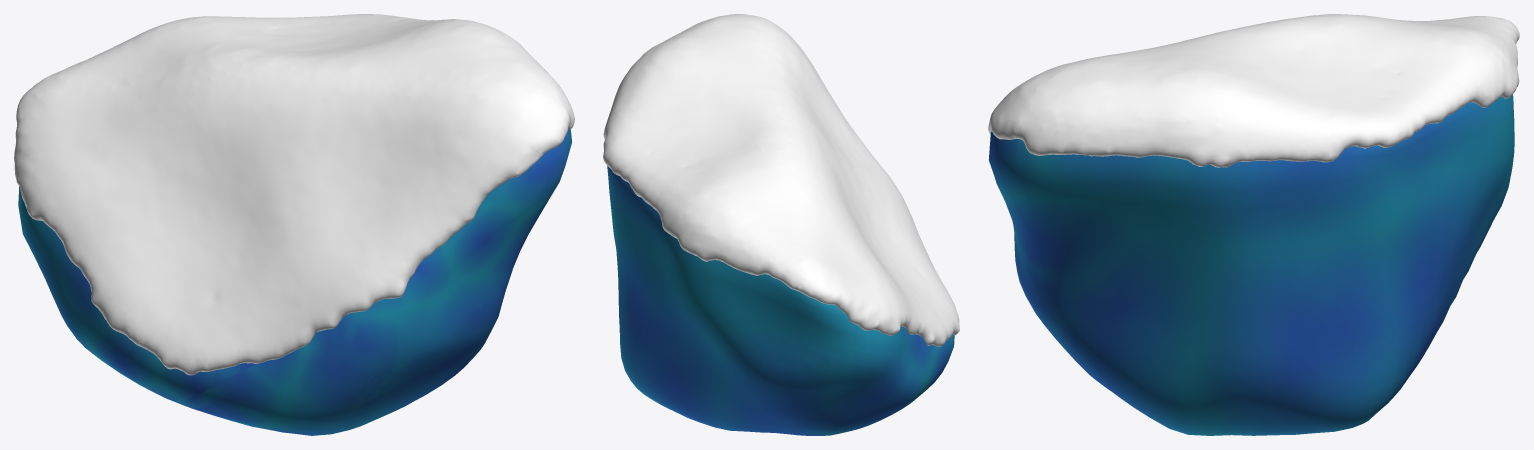
Rendered from Ice_Stone2_Snow.fbx.
The picture shows the model from 3 angles, left to right: view 1: azimuth 30°, elevation 25°; view 2: azimuth 150°, elevation 25°; view 3: azimuth 270°, elevation 25°; orthographic projection. The views are drawn at different scales.
Visible parts, largest first — view 1: rock.006; view 2: rock.006; view 3: rock.006.
Part boxes in pixels (left/top/right/bottom): rock.006: left=14, top=14, right=574, bottom=435; rock.006: left=603, top=14, right=959, bottom=435; rock.006: left=988, top=14, right=1519, bottom=435.
Bounding box in the file's own units: 138 × 118 × 144.
